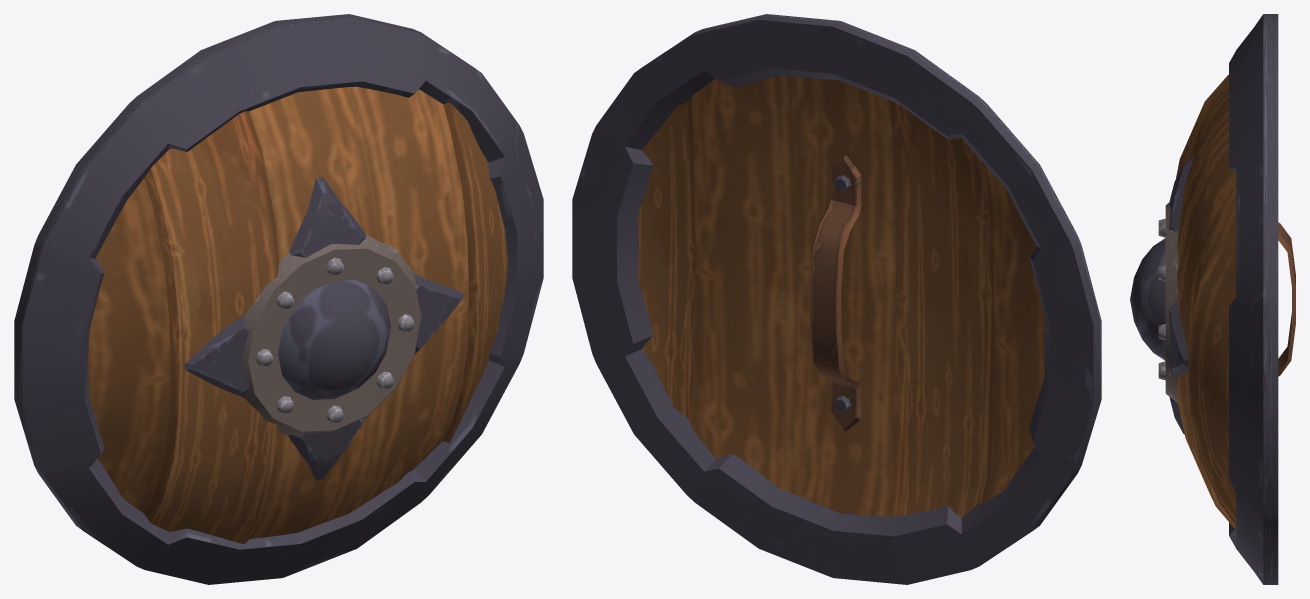
The model's file is shield.glb.
The picture shows the model from 3 angles, left to right: view 1: azimuth 30°, elevation 25°; view 2: azimuth 150°, elevation 25°; view 3: azimuth 270°, elevation 25°; orthographic projection. The views are drawn at different scales.
Visible parts, largest first — view 1: Shield_Wooden; view 2: Shield_Wooden; view 3: Shield_Wooden.
Part boxes in pixels (left/top/right/bottom): Shield_Wooden: left=14, top=14, right=543, bottom=584; Shield_Wooden: left=572, top=14, right=1101, bottom=584; Shield_Wooden: left=1130, top=14, right=1295, bottom=584.
Size of the model in its own units: 0.6146 by 0.6209 by 0.1788.
3 materials, 3 textured.
